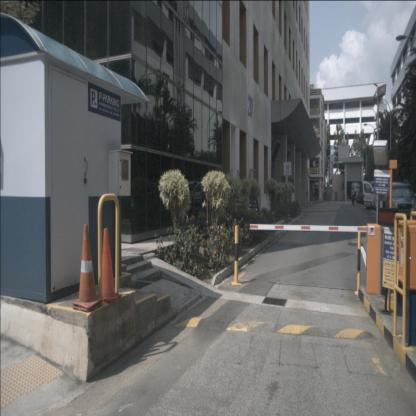human-pedestrian-adult: (370, 181, 375, 211), (351, 186, 356, 206)
movable_object-trafficcone: (72, 223, 103, 312), (97, 227, 121, 302)
vehicle-car: (382, 180, 416, 225), (362, 180, 396, 212)
vehicle-truck: (351, 183, 360, 200)
